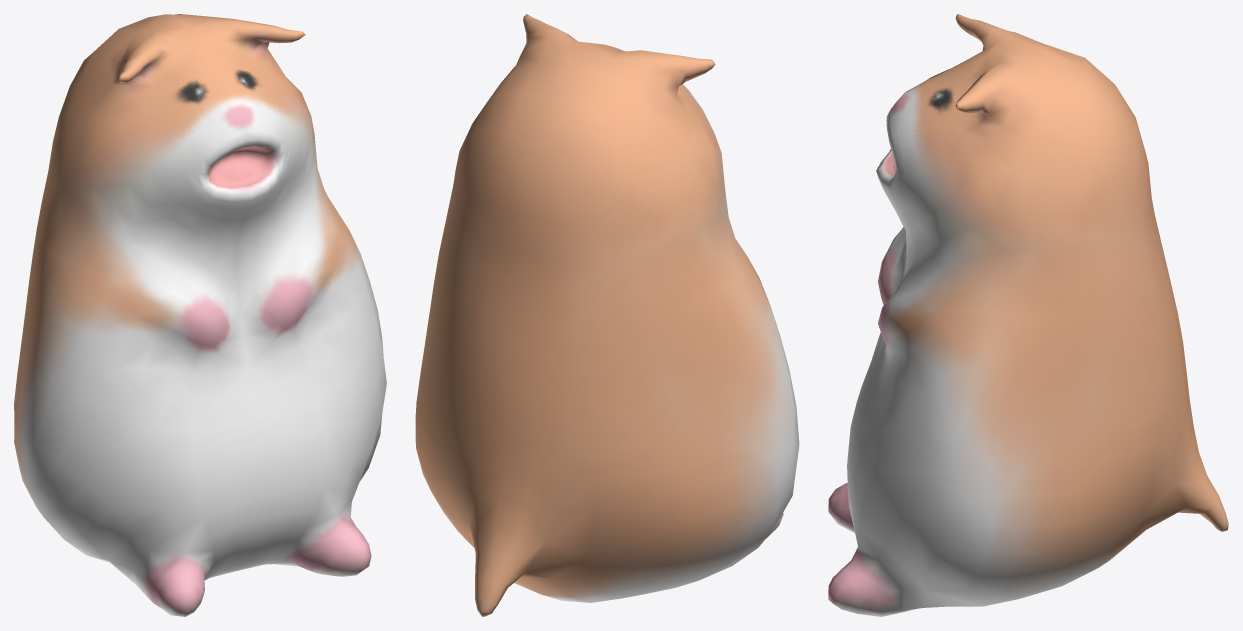
The model's file is hamster.glb.
The picture shows the model from 3 angles, left to right: view 1: azimuth 30°, elevation 25°; view 2: azimuth 150°, elevation 25°; view 3: azimuth 270°, elevation 25°; orthographic projection. The views are drawn at different scales.
Size of the model in its own units: 0.5979 by 0.8706 by 0.5899.
1 material, 1 textured.
